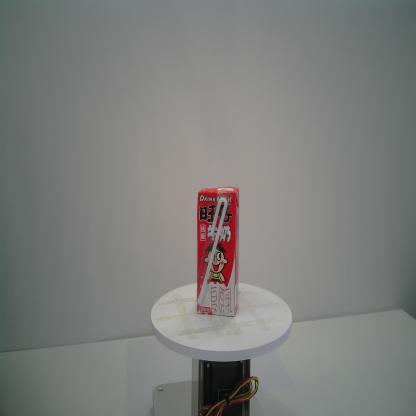Milk: (194, 184, 242, 321)
